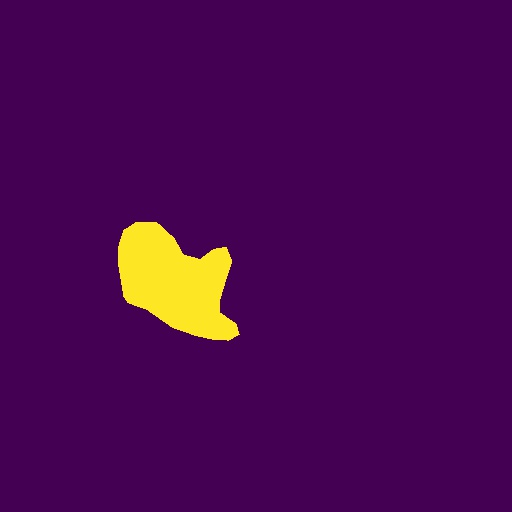Gliomia_tumour: (118, 222, 240, 341)
